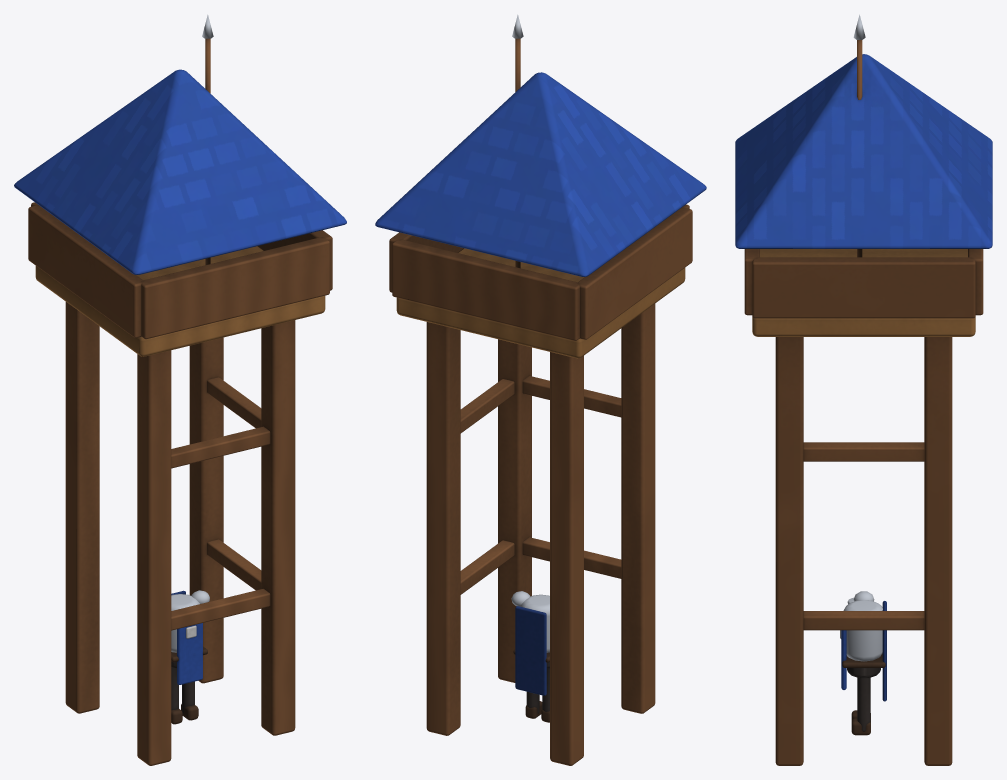
File: watchtower.glb
3 views of the same model, side by side, from view 1: azimuth 30°, elevation 25°; view 2: azimuth 150°, elevation 25°; view 3: azimuth 270°, elevation 25° (orthographic). The views are drawn at different scales.
Parts seen in each view (by area): view 1: leg; view 2: leg; view 3: leg.
Boxes of the visible parts, x1=… form: leg: x1=14, y1=14, x2=346, y2=765; leg: x1=375, y1=14, x2=706, y2=765; leg: x1=735, y1=14, x2=992, y2=765.
Bounding box in the file's own units: 0.4149 × 1.3 × 0.4149.
Materials: 2 (1 with a texture image).
